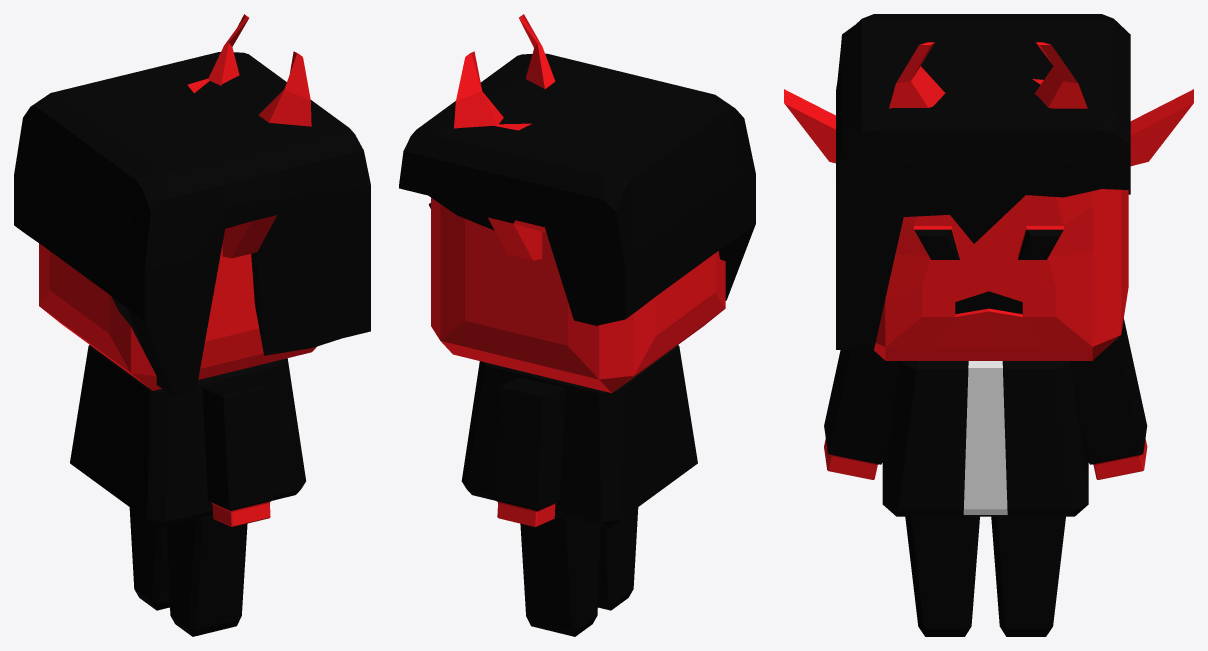
File: DevilModel_6.fbx
3 renders of one model, left to right at view 1: azimuth 30°, elevation 25°; view 2: azimuth 150°, elevation 25°; view 3: azimuth 270°, elevation 25°, orthographic. The views are drawn at different scales.
Parts seen in each view (by area): view 1: Cube.002, Torso, Head, LegLeft, Cube.001; view 2: Cube.002, Head, Torso, LegLeft, Cube.001; view 3: Cube.002, Head, Torso, Cube.001, LegLeft.
Boxes of the visible parts, x1=… form: Cube.002: x1=14, y1=52, x2=370, y2=396; Torso: x1=70, y1=345, x2=305, y2=528; Head: x1=39, y1=14, x2=316, y2=390; LegLeft: x1=129, y1=507, x2=247, y2=636; Cube.001: x1=202, y1=377, x2=273, y2=527; Cube.002: x1=399, y1=53, x2=755, y2=325; Head: x1=429, y1=14, x2=725, y2=393; Torso: x1=461, y1=345, x2=697, y2=528; LegLeft: x1=520, y1=507, x2=638, y2=636; Cube.001: x1=494, y1=377, x2=564, y2=527; Cube.002: x1=836, y1=14, x2=1130, y2=349; Head: x1=784, y1=42, x2=1193, y2=360; Torso: x1=882, y1=361, x2=1088, y2=516; Cube.001: x1=824, y1=318, x2=1147, y2=479; LegLeft: x1=905, y1=516, x2=1065, y2=636.
Size of the model in its own units: 196 by 456 by 270.
